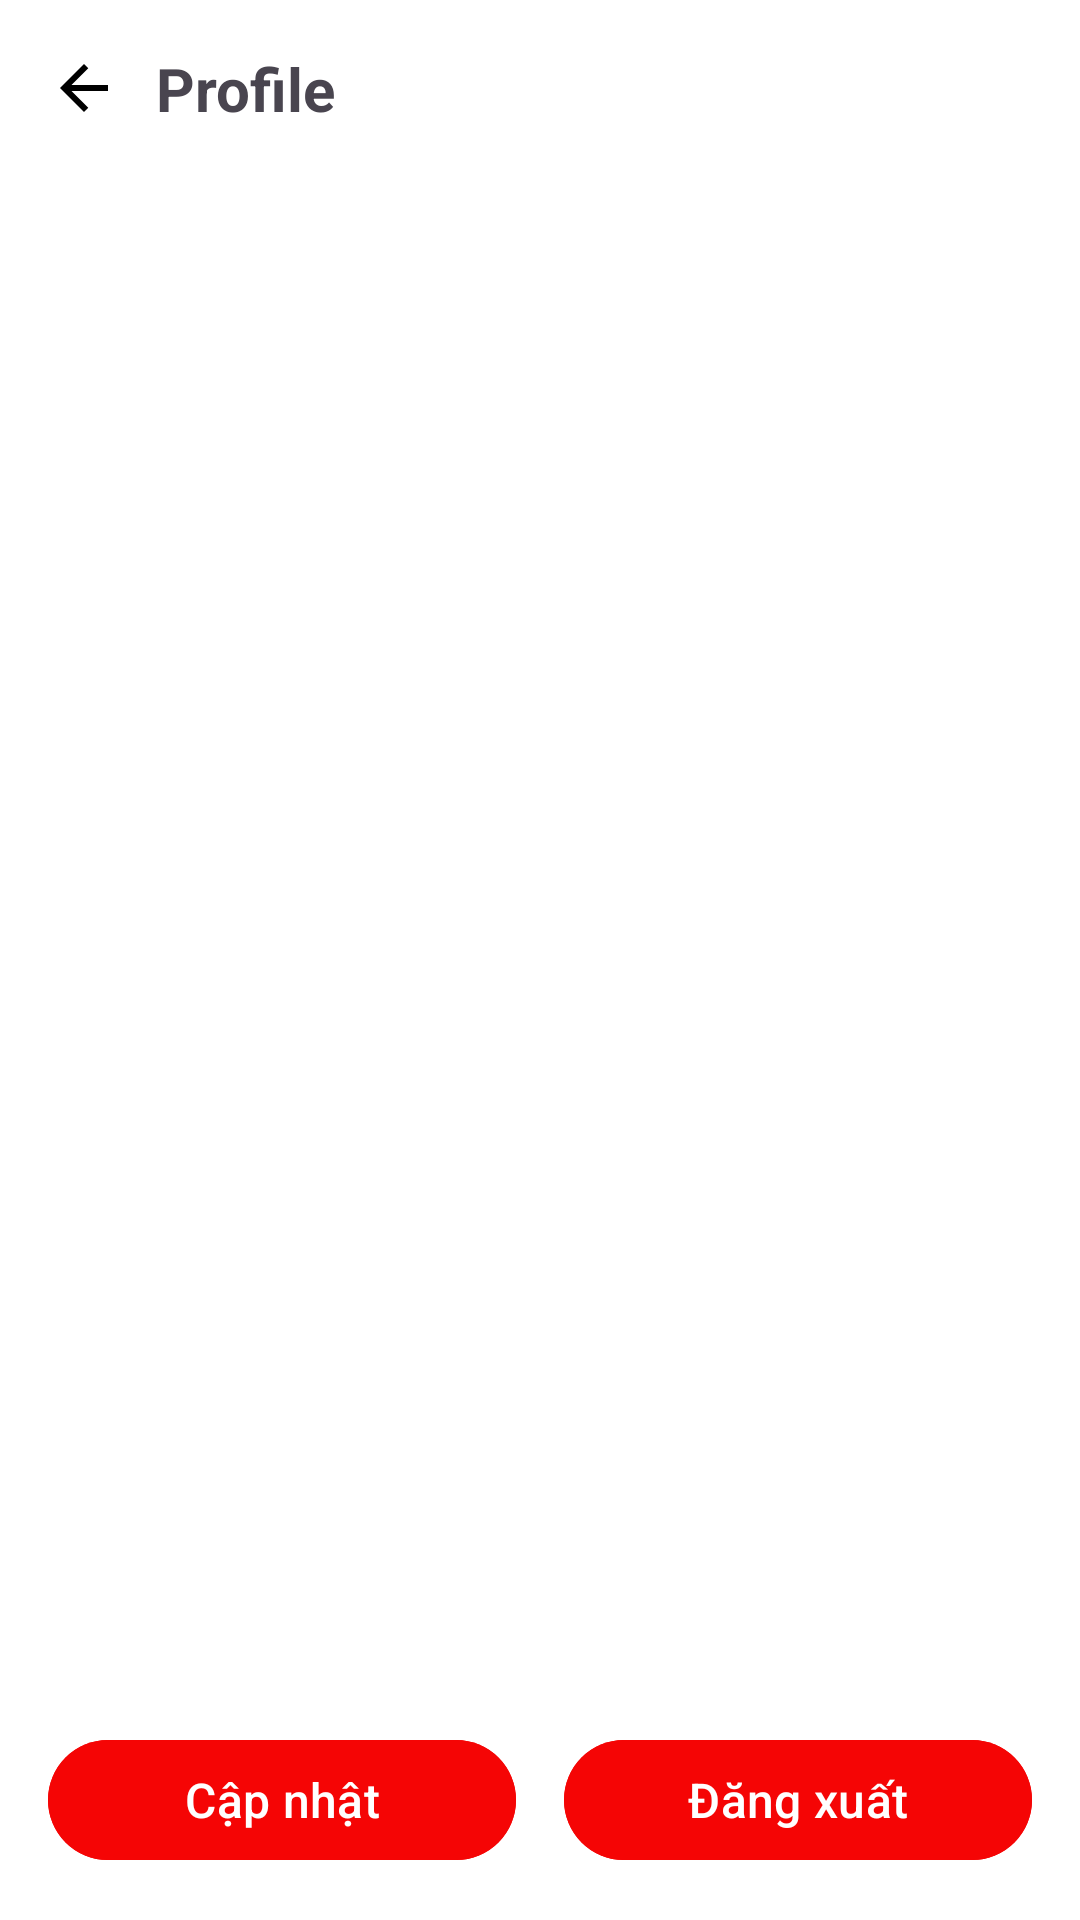

Named icons in this screenshot (1080*1920) and their bounding boxes, (x1, y1, x2, y2):
arrow back: (60, 64, 108, 112)
